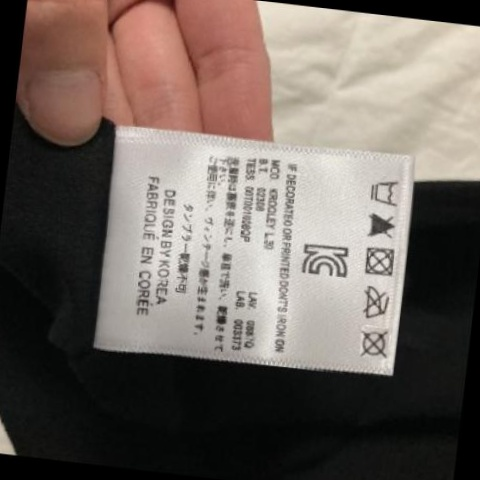DN_bleach: (366, 210, 400, 241)
DN_dry_clean: (357, 326, 393, 361)
DN_iron: (363, 286, 394, 322)
DN_tumble_dry: (362, 244, 400, 279)
machine_wash: (366, 172, 403, 210)
